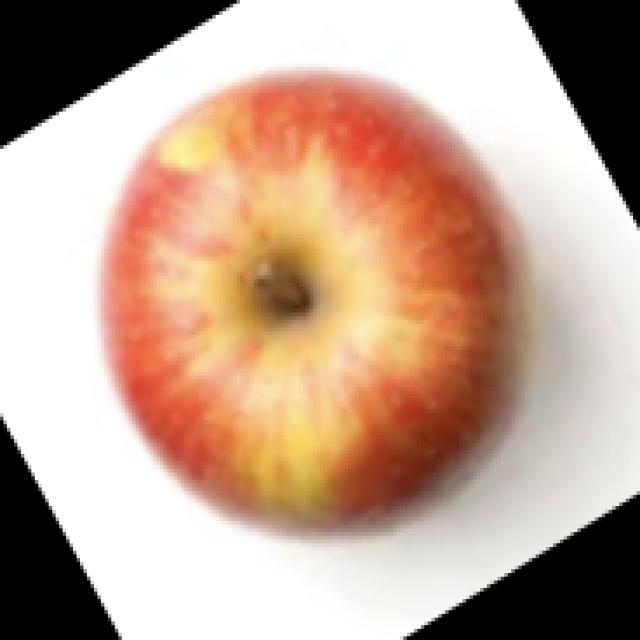Fresh Apple: (127, 83, 508, 540)
